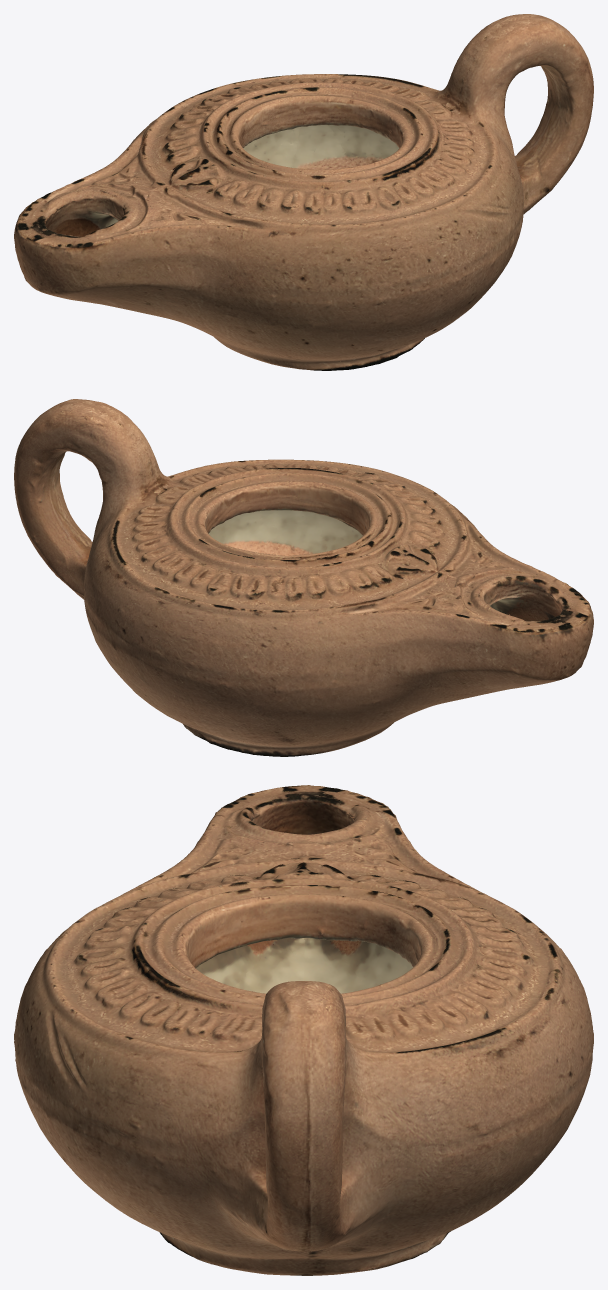
File: o19_asma_toprak_kandil.glb
The picture shows the model from 3 angles, top to bottom: view 1: azimuth 30°, elevation 25°; view 2: azimuth 150°, elevation 25°; view 3: azimuth 270°, elevation 25°; orthographic projection. The views are drawn at different scales.
Size of the model in its own units: 1.9 by 0.8292 by 1.2.
Materials: 1 (1 with a texture image).
